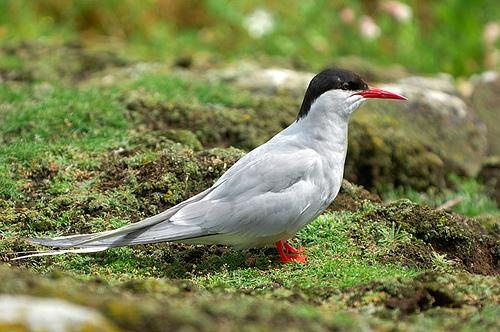bird: (16, 68, 408, 270)
